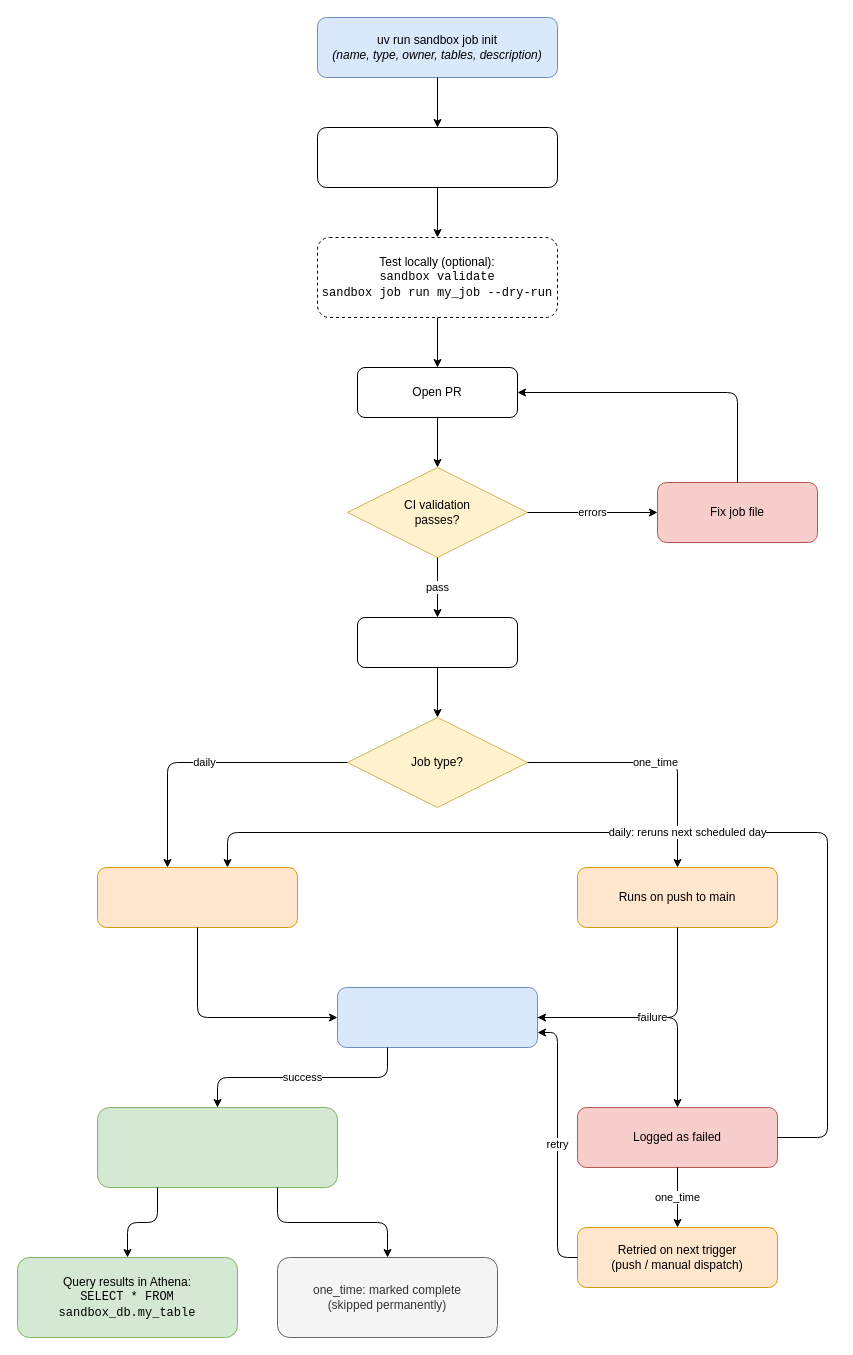
The diagram is 853 pixels wide and 1355 high, and some of its shapes have lost their labels. The centre of each missing label's shape, as x and y in pixels:
"Fill in main() in the generated job file" belongs at [437,157].
"Merge to main" belongs at [437,642].
"Runner executes main()" belongs at [437,1017].
"Scheduled run (09:00 UTC daily)" belongs at [197,897].
"Tables written to S3 + Glue Run logged to sandbox_job_runs" belongs at [217,1147].
